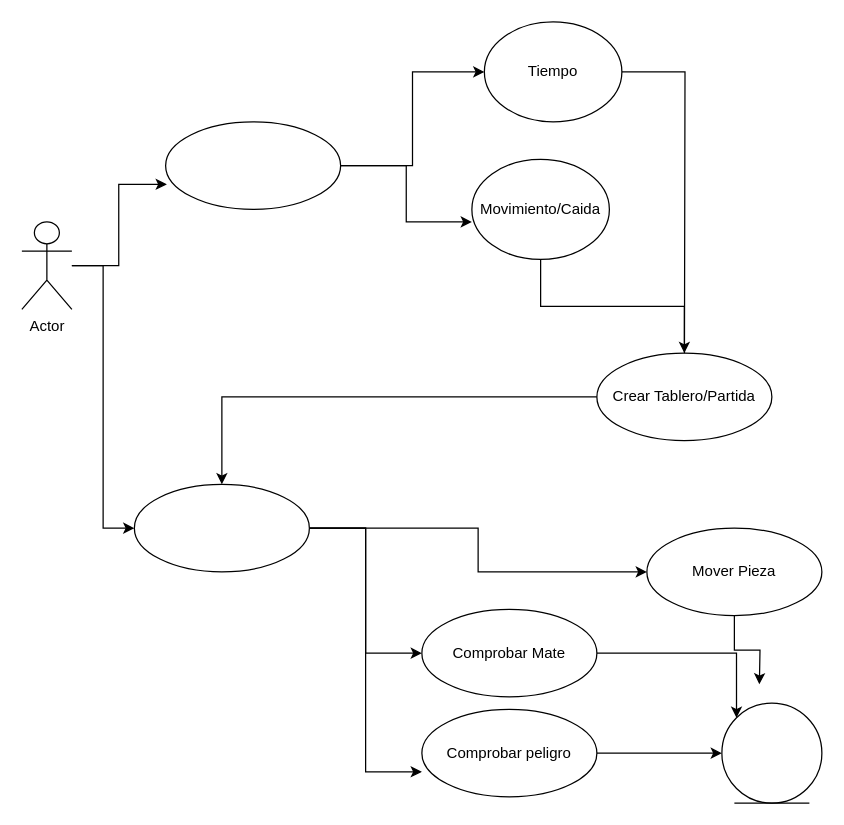
The diagram is 844 pixels wide and 825 high, and some of its shapes have lost their labels. Here are the shapes that lost their labels. From the top down, the box of each, then its label:
(164, 121, 341, 209): Configurar
(133, 483, 309, 572): Jugar
(721, 702, 822, 803): Tablero
